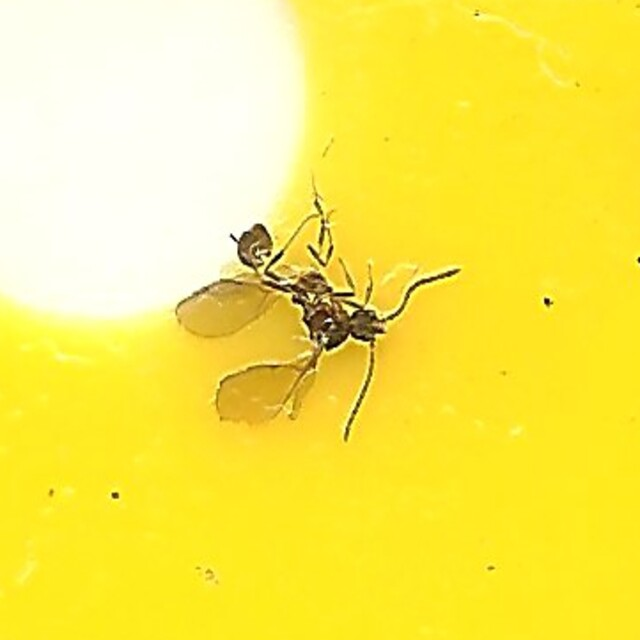Hymenoptera: (177, 196, 463, 444)
